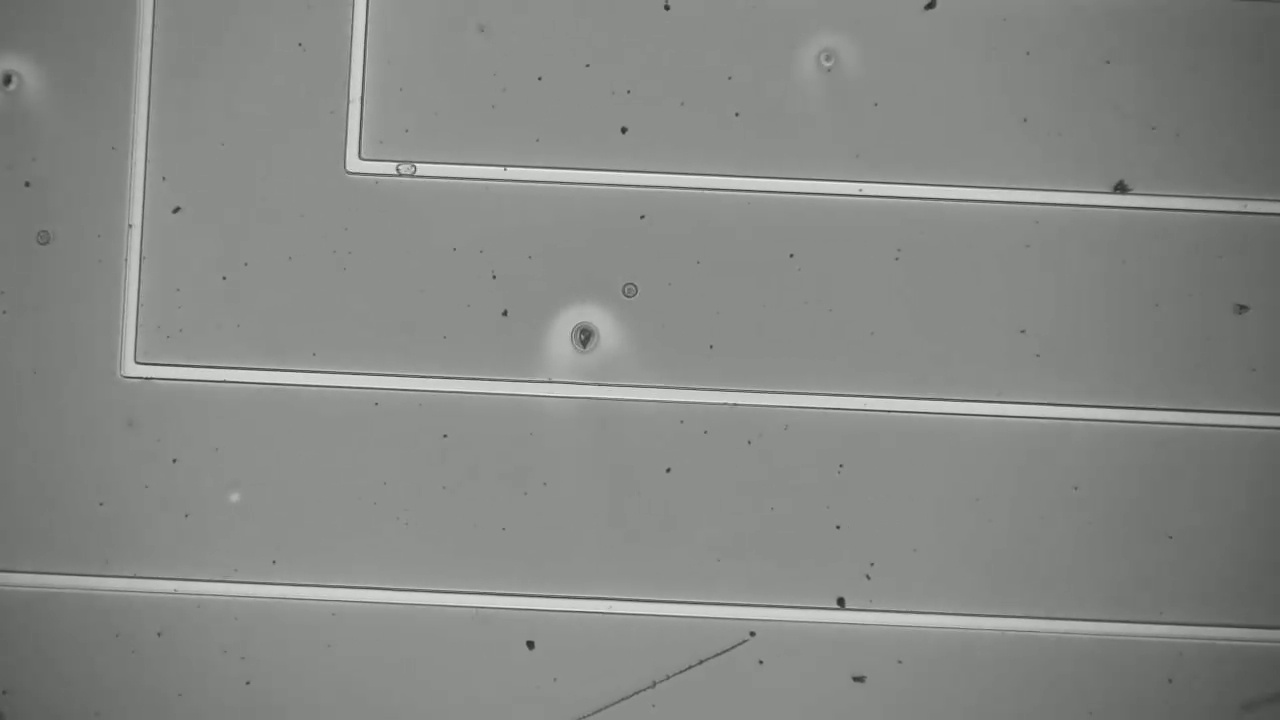scratch: (552, 627, 758, 719)
stains_enbedded: (391, 148, 426, 193)
